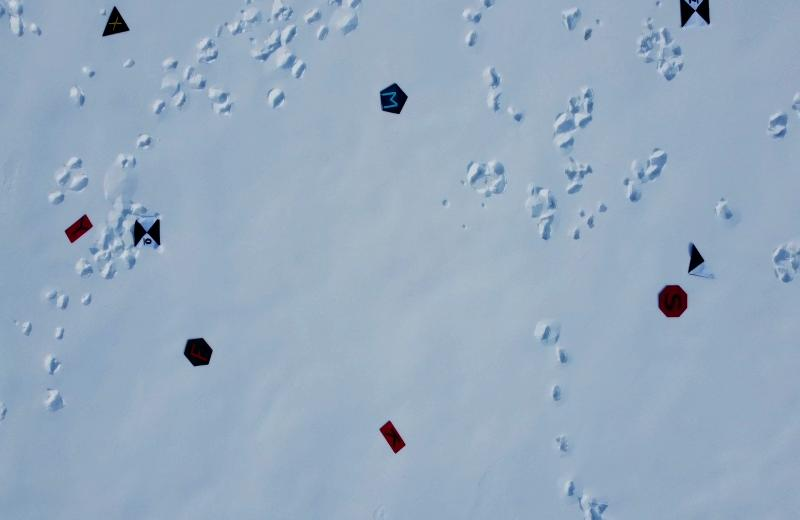Hexagon: (179, 331, 215, 370)
Octagon: (655, 279, 689, 322)
Pentagon: (376, 76, 410, 120)
Rectangle: (374, 416, 408, 458), (63, 209, 96, 246)
Triangle: (98, 3, 132, 39)
